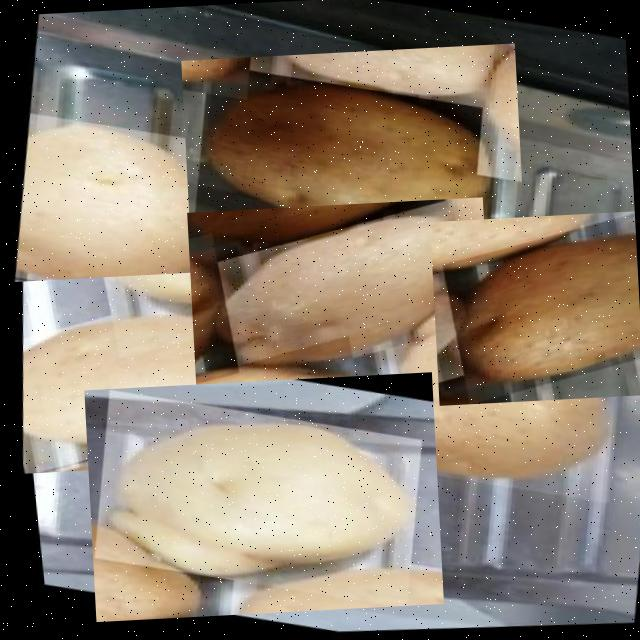Potato: (83, 372, 443, 622), (180, 44, 525, 276), (8, 267, 310, 474), (306, 322, 624, 518), (186, 198, 492, 396), (0, 105, 242, 323), (429, 211, 640, 406)
